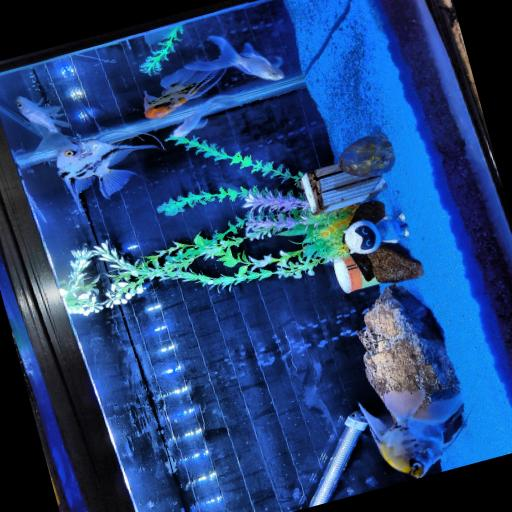Fish: (359, 390, 462, 477), (57, 140, 157, 212), (186, 36, 285, 80), (145, 69, 222, 118), (16, 97, 73, 151), (173, 95, 237, 137)
